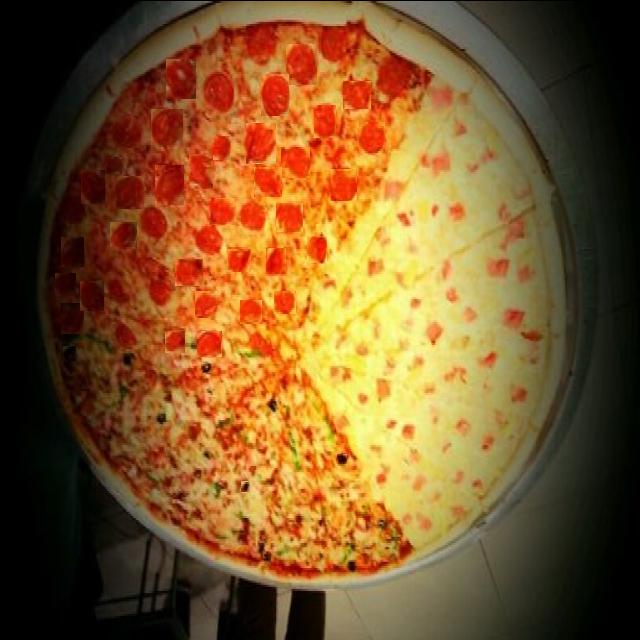olive: (62, 345, 75, 360), (155, 412, 166, 424), (200, 362, 212, 372), (336, 453, 346, 464), (122, 354, 133, 364), (240, 480, 249, 491), (347, 560, 355, 572), (262, 550, 270, 562), (257, 542, 264, 553), (268, 400, 275, 411)
pepperoni: (377, 55, 409, 96), (244, 24, 276, 65), (200, 71, 232, 111), (285, 43, 316, 84), (245, 122, 275, 163), (165, 58, 195, 98), (152, 164, 182, 204), (260, 73, 288, 115), (150, 108, 182, 144), (318, 24, 344, 62), (114, 175, 143, 208), (280, 146, 309, 177), (139, 208, 167, 240), (112, 115, 140, 147), (329, 168, 356, 200), (253, 166, 281, 196), (188, 153, 212, 188), (358, 121, 384, 153), (80, 169, 104, 203), (342, 80, 370, 108), (275, 202, 302, 231), (195, 224, 221, 254), (59, 196, 85, 226), (174, 258, 202, 285), (58, 302, 82, 333), (109, 221, 136, 248), (313, 104, 335, 137), (239, 201, 264, 230), (79, 280, 103, 310), (208, 197, 234, 224), (60, 236, 83, 266), (196, 330, 221, 356), (149, 277, 171, 305), (106, 278, 130, 303), (194, 290, 216, 317), (114, 321, 135, 348), (306, 235, 326, 262), (227, 247, 250, 270), (239, 299, 261, 323), (265, 247, 285, 273), (273, 290, 295, 313), (54, 272, 75, 295), (210, 135, 229, 159), (164, 330, 184, 352), (102, 156, 121, 173)
pizza: (36, 0, 567, 583)
